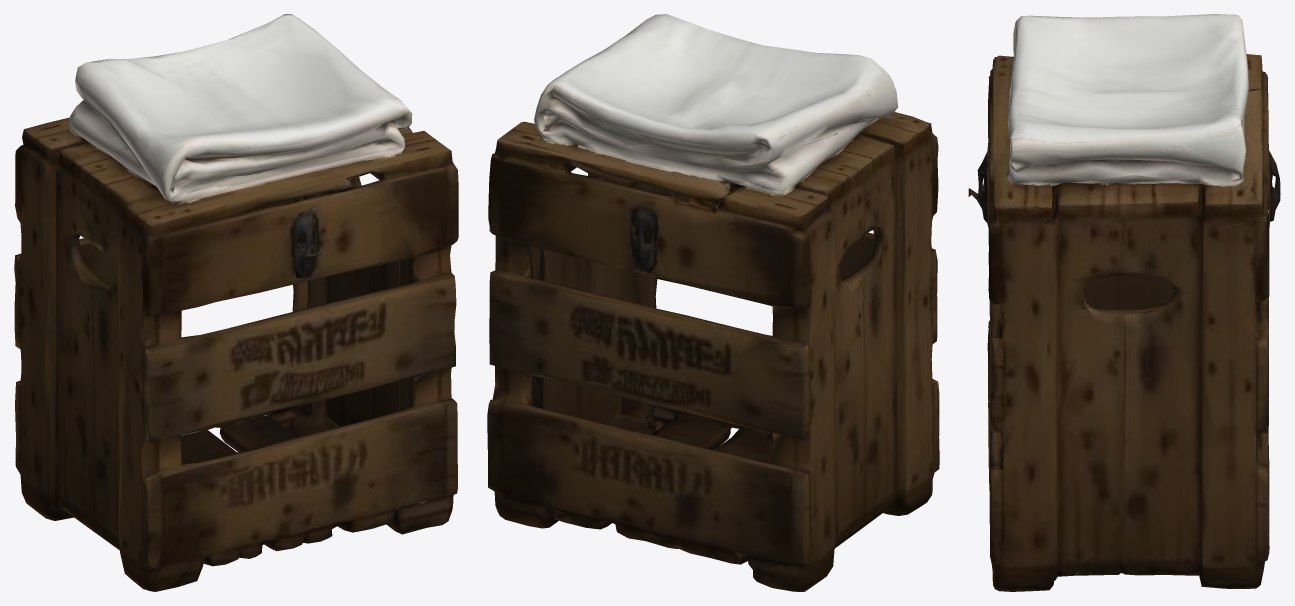
The model's file is pedestal.glb.
The picture shows the model from 3 angles, left to right: view 1: azimuth 30°, elevation 25°; view 2: azimuth 150°, elevation 25°; view 3: azimuth 270°, elevation 25°; orthographic projection. The views are drawn at different scales.
Visible parts, largest first — view 1: geometry_0; view 2: geometry_0; view 3: geometry_0.
Boxes of the visible parts, bbox=[...] form: geometry_0: bbox=[14, 14, 458, 591]; geometry_0: bbox=[487, 14, 939, 591]; geometry_0: bbox=[968, 14, 1280, 591].
Bounding box in the file's own units: 0.6 × 0.8 × 0.5.
Materials: 1 (1 with a texture image).
